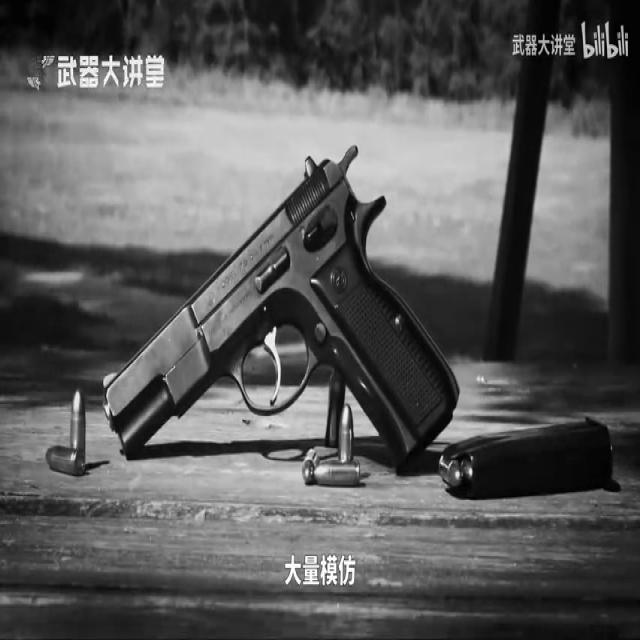Hand-Gun: (98, 136, 466, 460)
